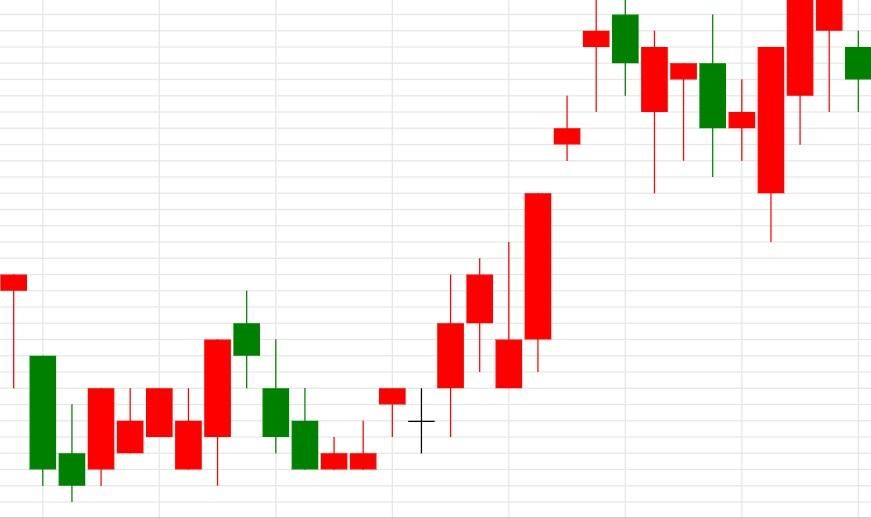inverse_hammer_rise: (232, 291, 378, 470)
